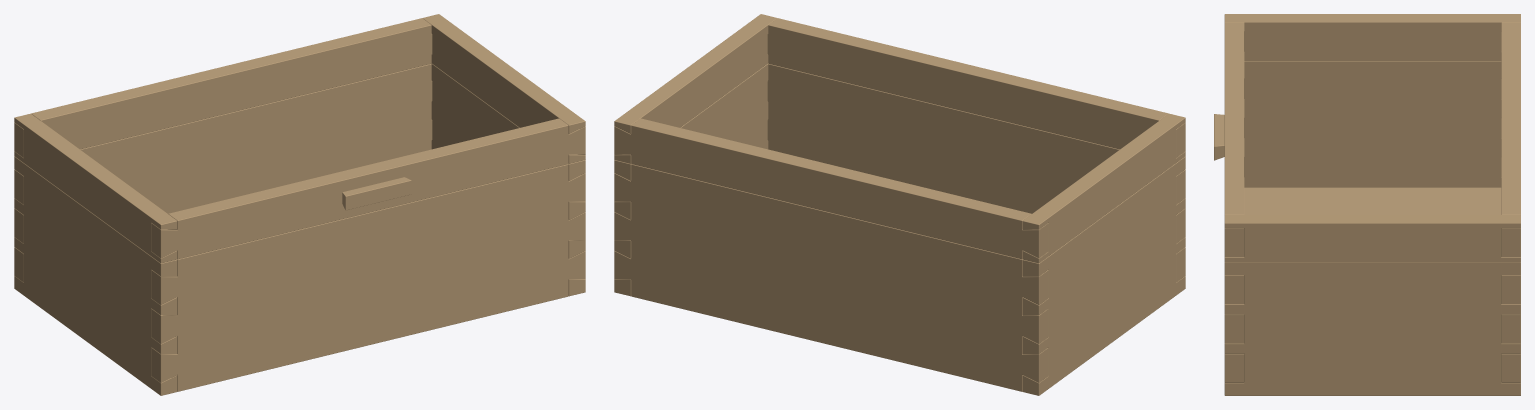
The picture shows the model from 3 angles, left to right: view 1: azimuth 30°, elevation 25°; view 2: azimuth 150°, elevation 25°; view 3: azimuth 270°, elevation 25°; orthographic projection.
Parts seen in each view (by area): view 1: front top; view 2: front top; view 3: front top.
Part boxes in pixels (bbox=[...]): front top: bbox=[14, 14, 585, 395]; front top: bbox=[614, 14, 1185, 395]; front top: bbox=[1214, 14, 1520, 395].
Size of the model in its own units: 50.38 by 19.41 by 31.22.
